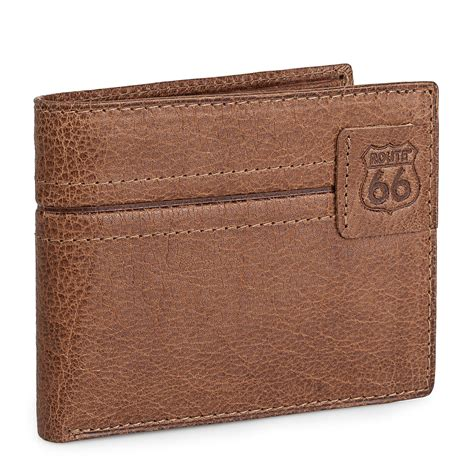cuero: (30, 62, 440, 437)
